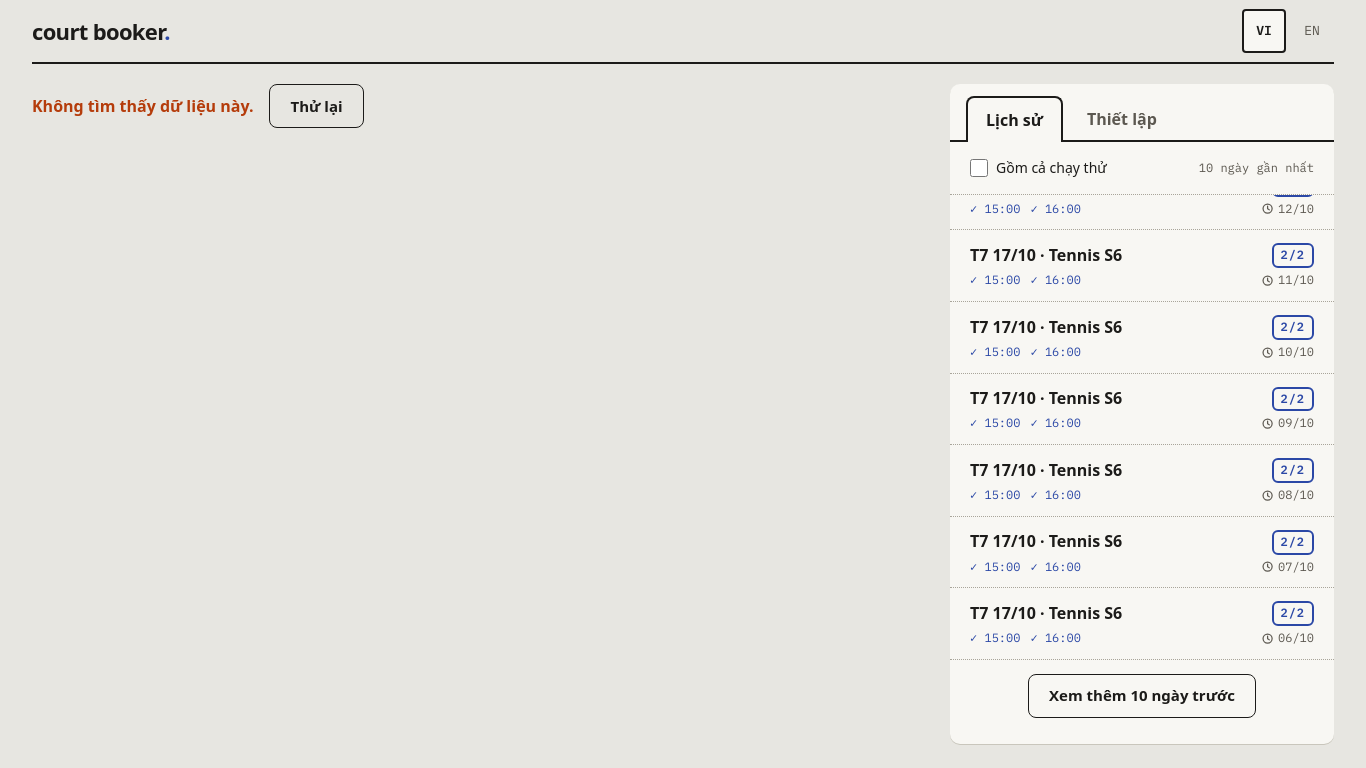
it: History list › reads the ten days before the oldest run shown on request
(page scrolled)
Check: the text "10 ngày gần nhất" is shown, box left=1199, top=160, right=1314, bottom=176
What coordinates should you click on to do the following:
click the button "Xem thêm 10 ngày trước"
I would click on:
 (1142, 696)
Its box is left=1028, top=674, right=1256, bottom=718.
(page scrolled)
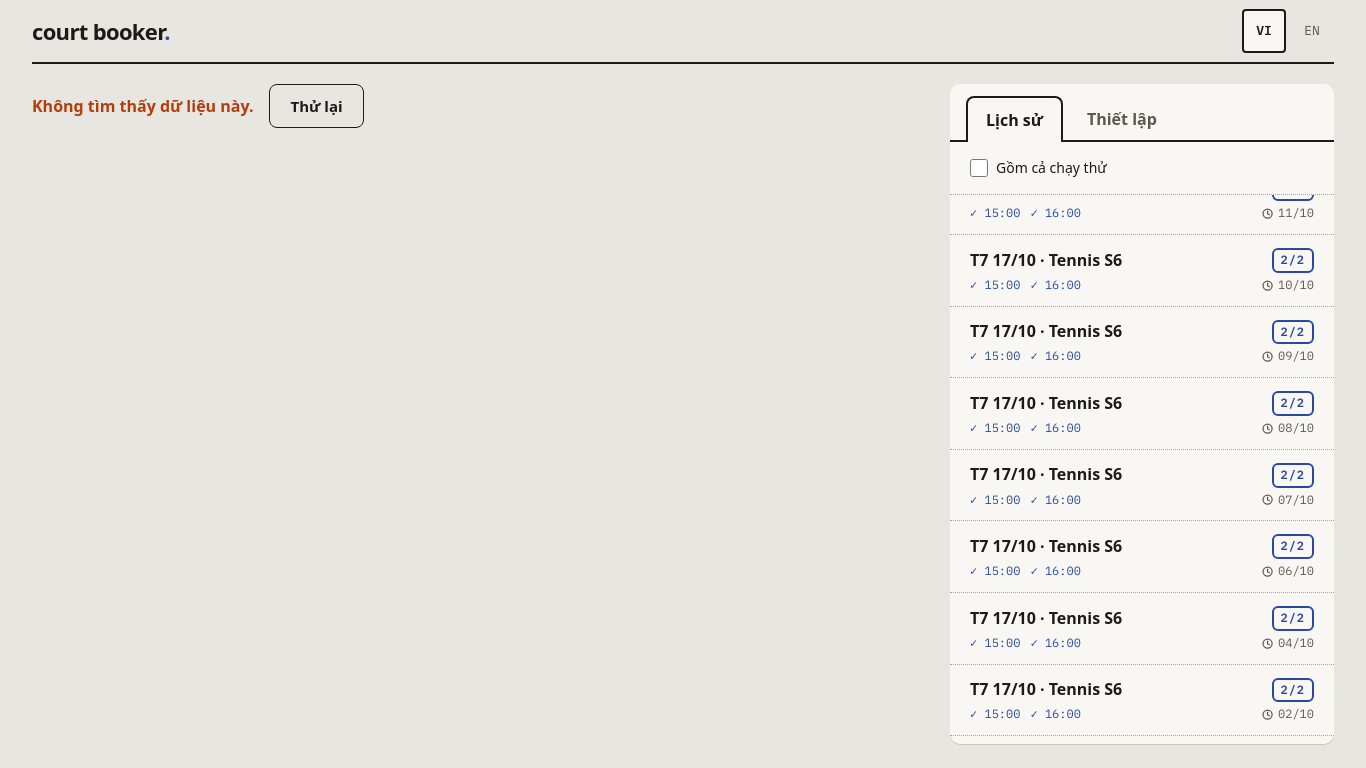
Check: the button "Xem thêm 10 ngày trước" is gone
Check: the text "ngày gần nhất" is gone
